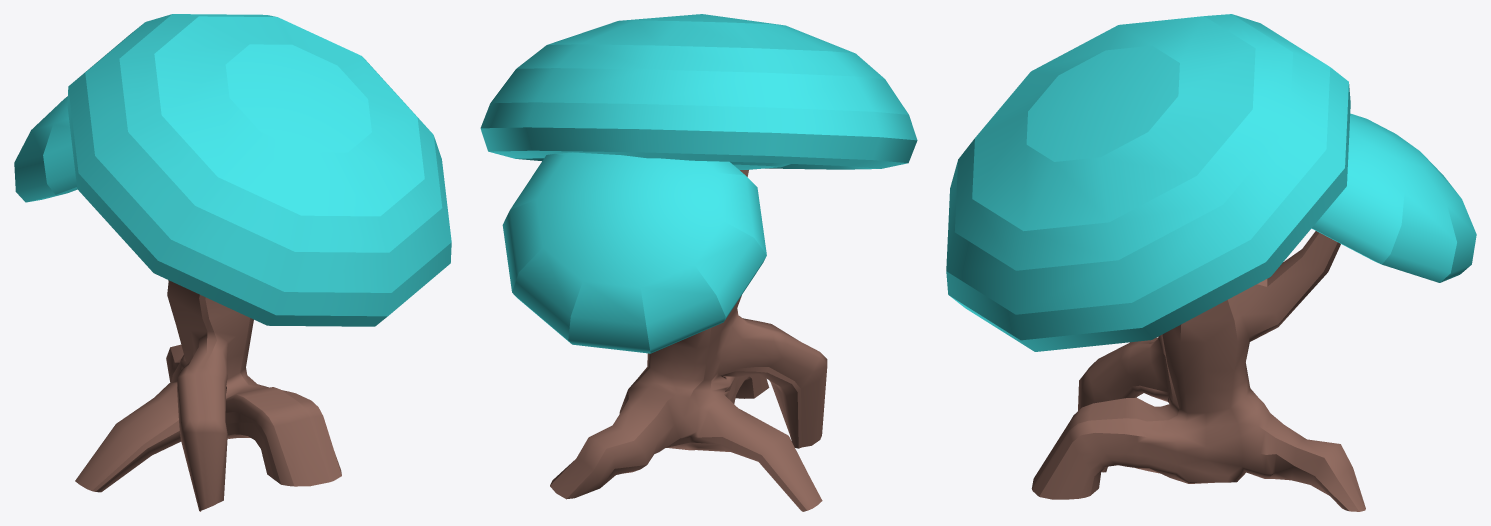
Rendered from Arbre_Bouclier.fbx.
3 renders of one model, left to right at view 1: azimuth 30°, elevation 25°; view 2: azimuth 150°, elevation 25°; view 3: azimuth 270°, elevation 25°, orthographic. The views are drawn at different scales.
Visible parts, largest first — view 1: Arbre_bouclier1; view 2: Arbre_bouclier1; view 3: Arbre_bouclier1.
Part boxes in pixels (left/top/right/bottom): Arbre_bouclier1: left=14, top=14, right=451, bottom=511; Arbre_bouclier1: left=480, top=14, right=917, bottom=511; Arbre_bouclier1: left=946, top=14, right=1476, bottom=511.
Bounding box in the file's own units: 5.52 × 6.35 × 6.62.
